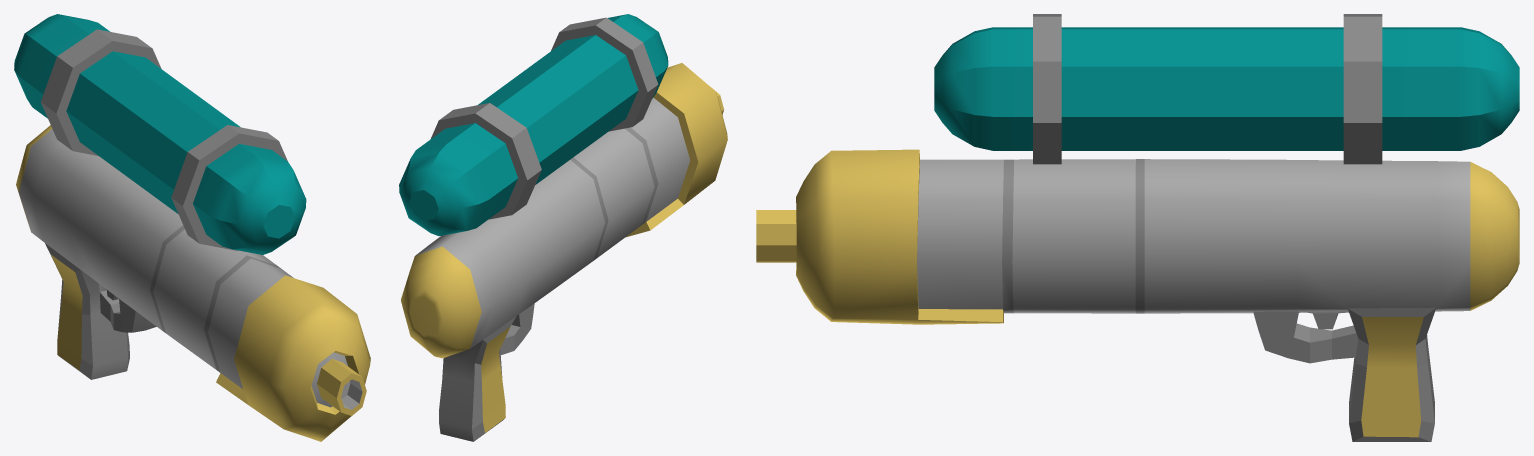
The model's file is water_gun.fbx.
3 views of the same model, side by side, from view 1: azimuth 30°, elevation 25°; view 2: azimuth 150°, elevation 25°; view 3: azimuth 270°, elevation 25° (orthographic). The views are drawn at different scales.
Visible parts, largest first — view 1: watergun; view 2: watergun; view 3: watergun.
Boxes of the visible parts, x1,y1,x2,y2 form: watergun: [14, 14, 370, 441]; watergun: [399, 14, 727, 441]; watergun: [756, 14, 1519, 441].
Bounding box in the file's own units: 0.1297 × 0.3712 × 0.6196.
